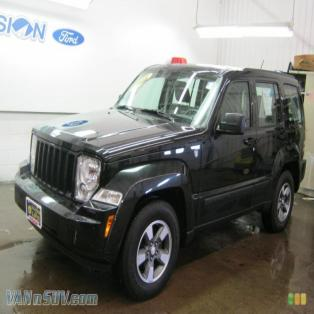Auto: (13, 54, 308, 305)
